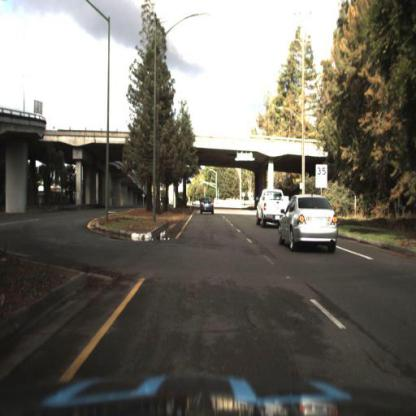car: (278, 194, 344, 256), (255, 186, 291, 231), (200, 195, 217, 218)
